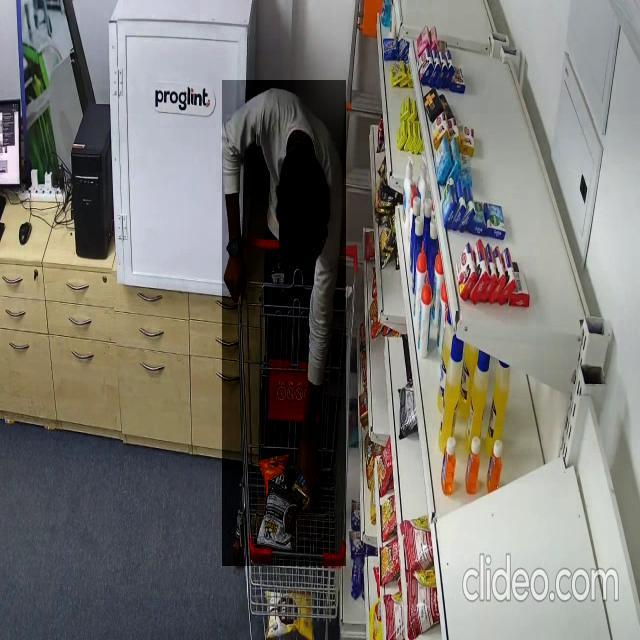normal: (222, 80, 346, 566)
